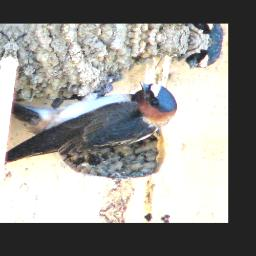Swallow: (5, 70, 182, 185)
